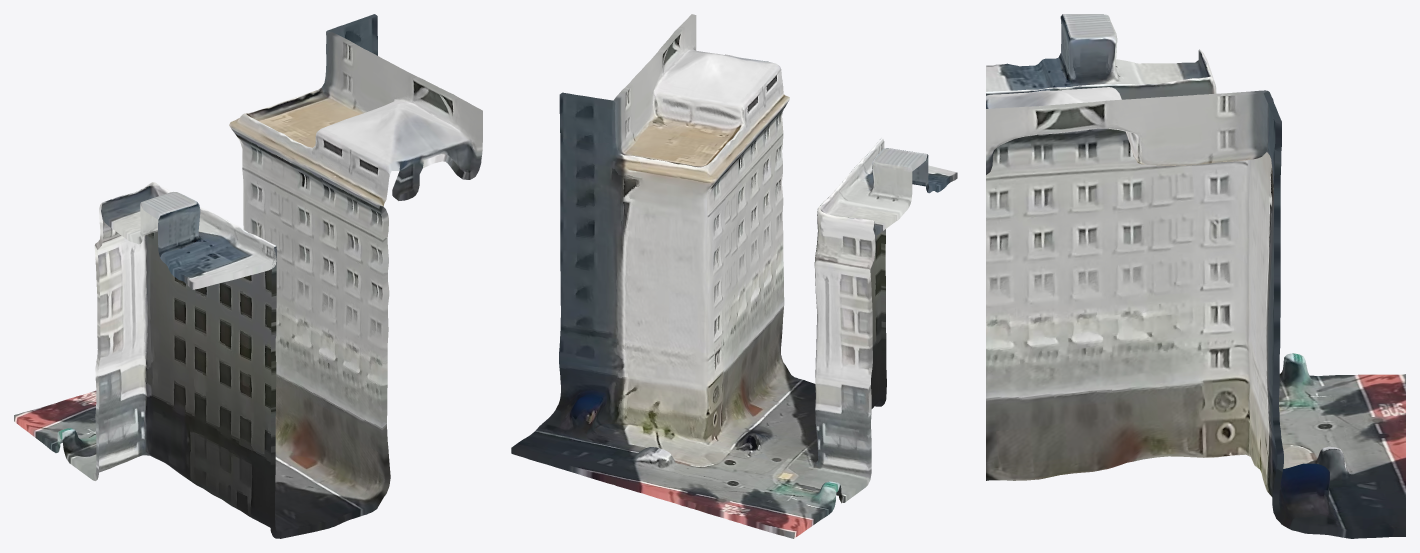
File: z20-167752-405244-h0-yup-uvflip-v3-world.glb
The picture shows the model from 3 angles, left to right: view 1: azimuth 30°, elevation 25°; view 2: azimuth 150°, elevation 25°; view 3: azimuth 270°, elevation 25°; orthographic projection. The views are drawn at different scales.
Bounding box in the file's own units: 30.16 × 35.6 × 30.32.
1 material, 1 textured.
